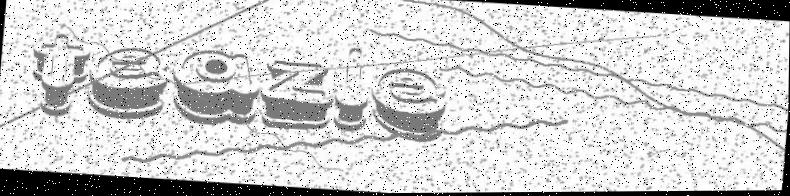a: (168, 45, 264, 130)
e: (365, 58, 455, 148), (86, 40, 172, 122)
l: (328, 43, 378, 134)
t: (28, 25, 95, 117)
z: (257, 52, 337, 116)
